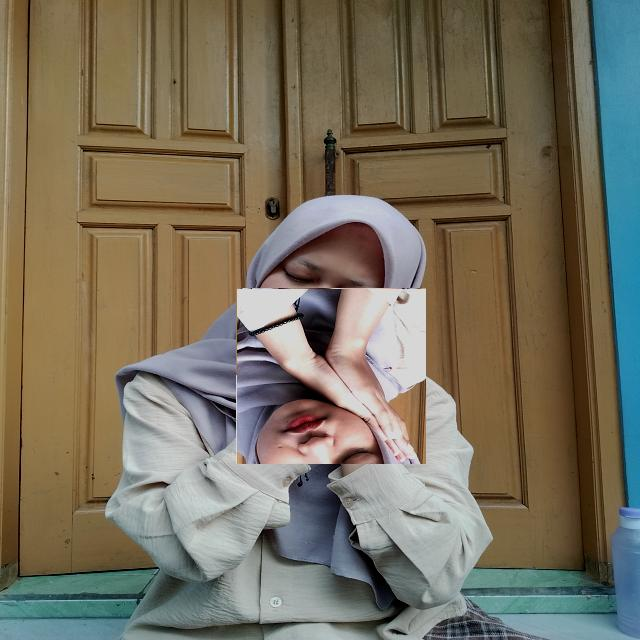tidur: (236, 288, 426, 464)
